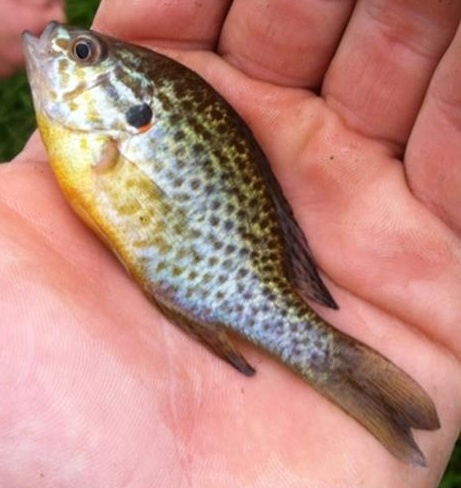Lepomis gibbosus: (20, 20, 441, 468)
